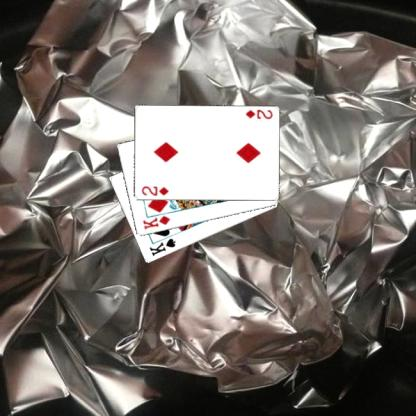2D: (139, 184, 169, 197), (243, 107, 273, 120)
KD: (140, 213, 172, 231)
KS: (147, 235, 177, 258)
